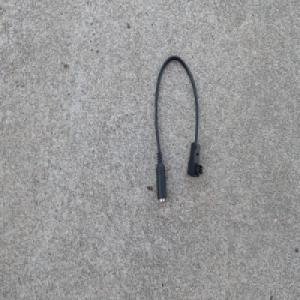Wire: (151, 53, 202, 204)
